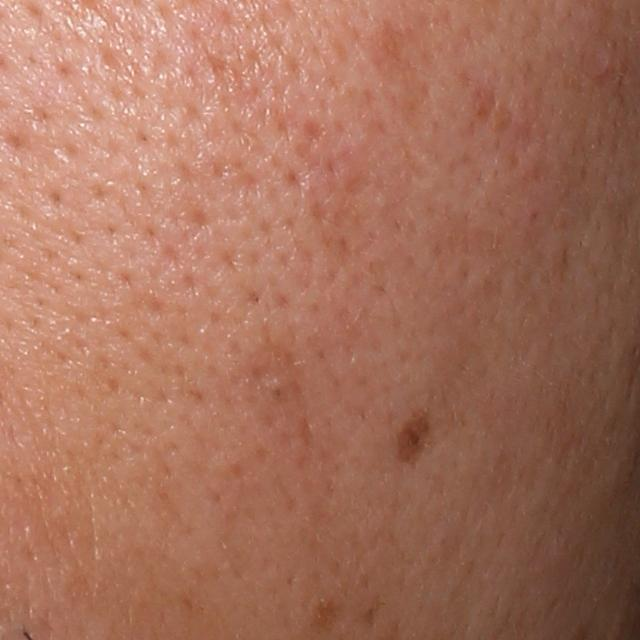nevus: (394, 410, 441, 474)
